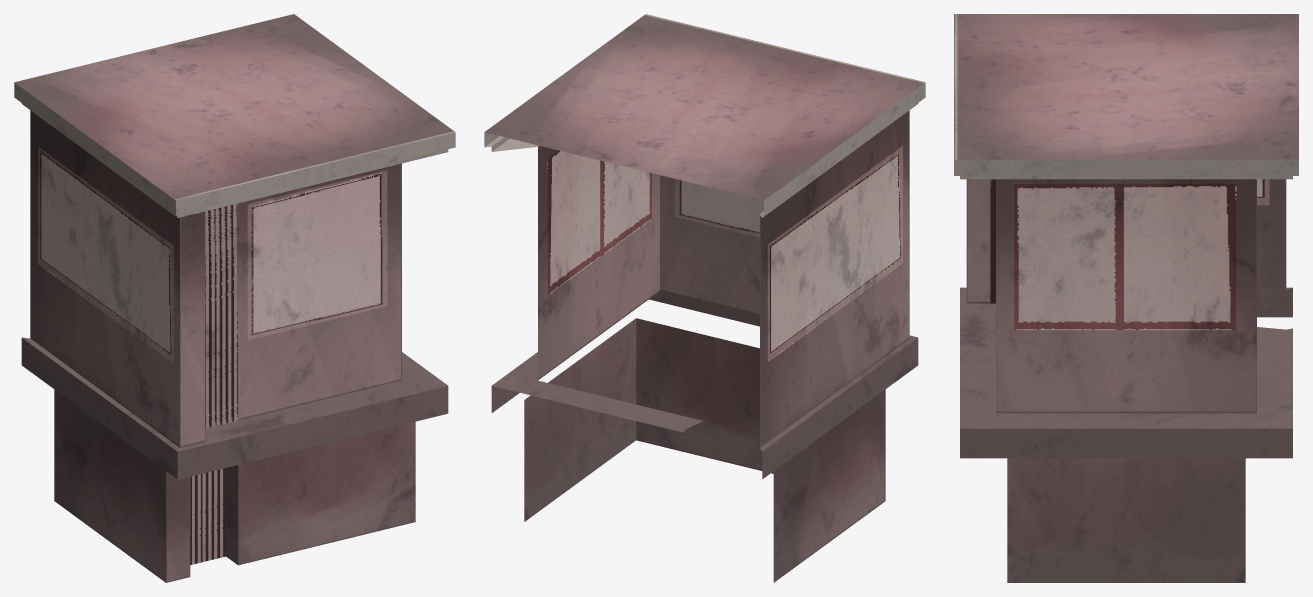
3 renders of one model, left to right at view 1: azimuth 30°, elevation 25°; view 2: azimuth 150°, elevation 25°; view 3: azimuth 270°, elevation 25°, orthographic. The views are drawn at different scales.
Parts seen in each view (by area): view 1: Box001; view 2: Box001; view 3: Box001.
Part boxes in pixels (x1=…): Box001: x1=14, y1=14, x2=455, y2=582; Box001: x1=484, y1=14, x2=925, y2=582; Box001: x1=954, y1=14, x2=1298, y2=582.
Size of the model in its own units: 166 by 229 by 166.
Materials: 1 (1 with a texture image).
